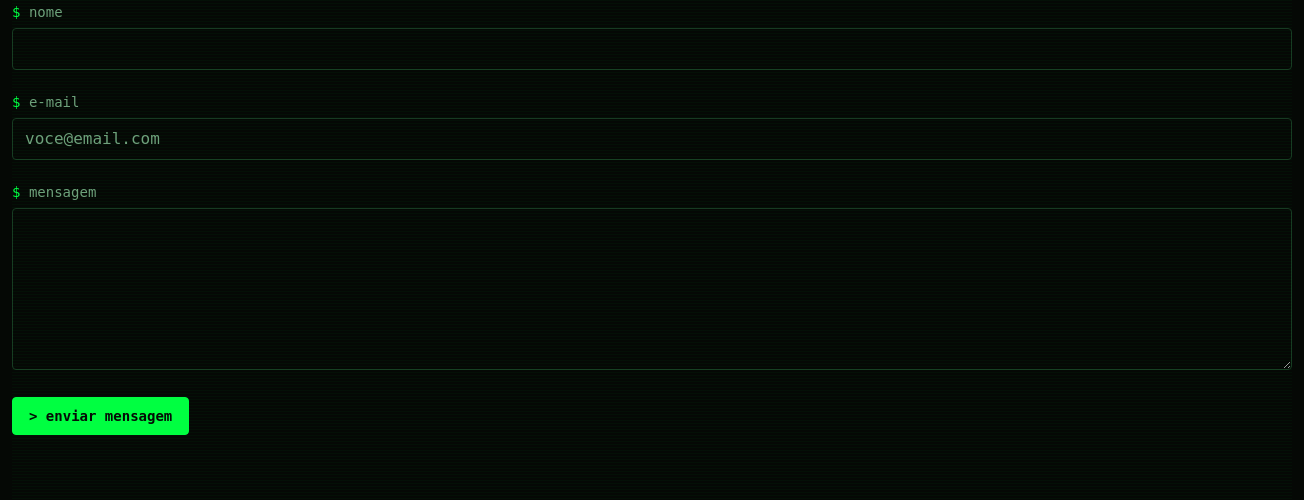
Test: ContactForm › recusa e-mail inválido e mensagem curta
Type "Ana" into the field labelled "$ nome" at (652,49), box top-left (12, 28), bottom-right (1292, 70)
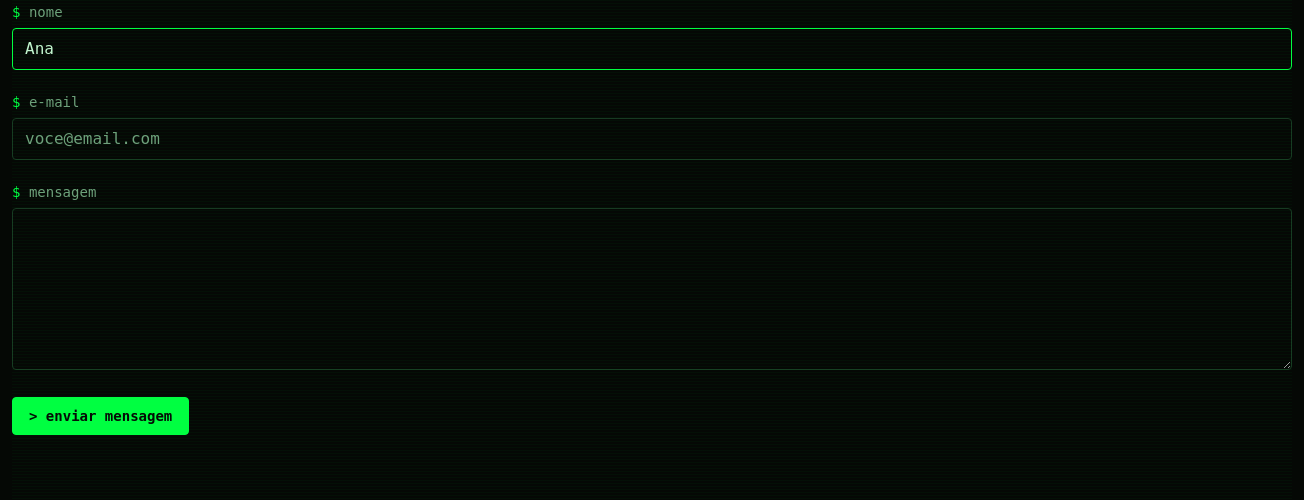
Type "ana@" into the field labelled "$ e-mail" at (652,139), box top-left (12, 118), bottom-right (1292, 160)
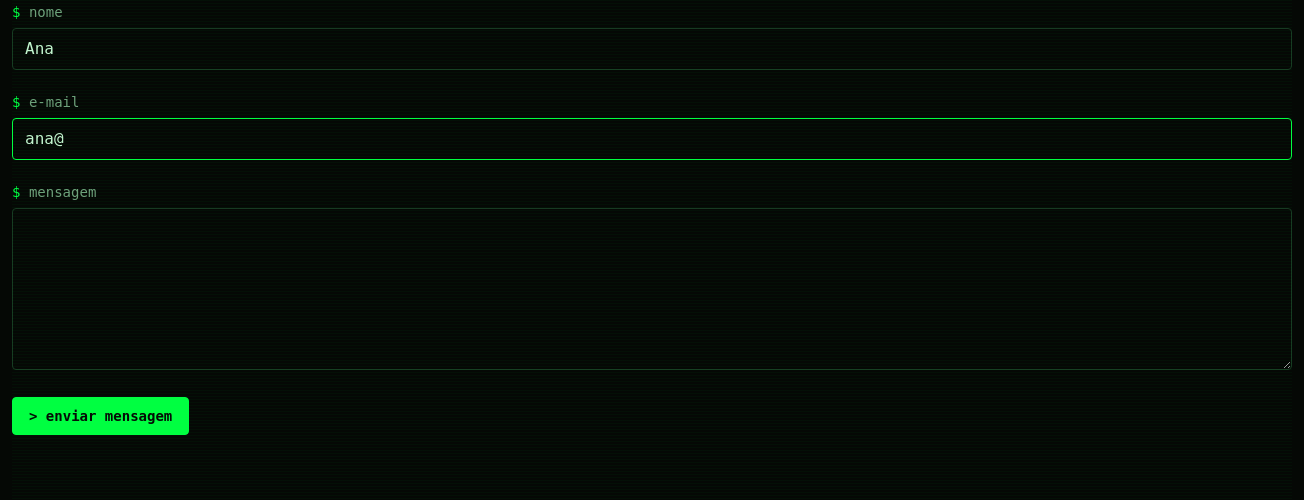
Type "curta" into the text box labelled "$ mensagem" at (652,289), box top-left (12, 208), bottom-right (1292, 370)
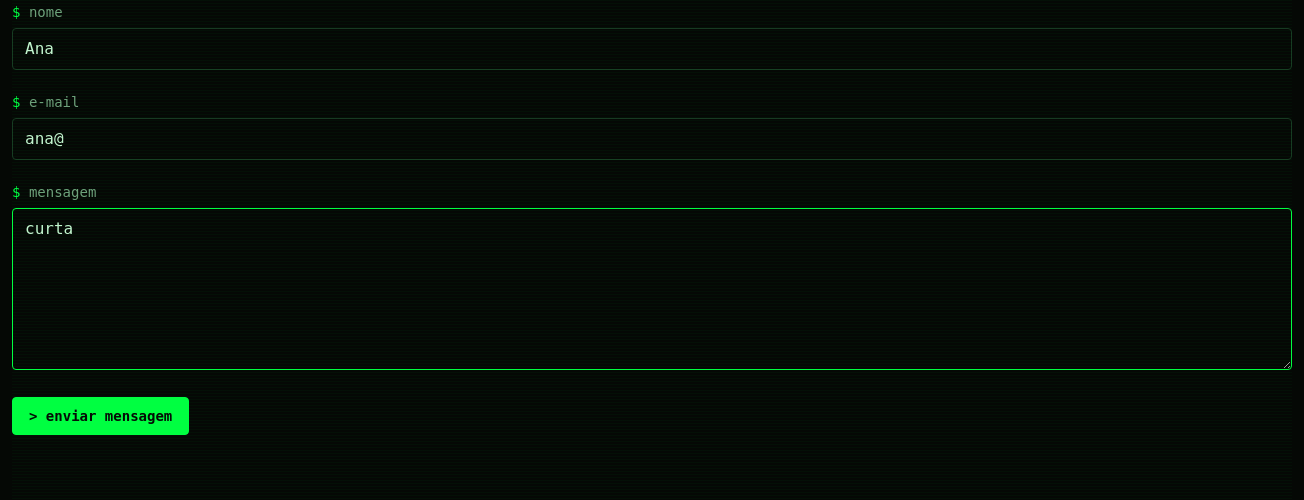
Click the button "> enviar mensagem" at (101,416), box top-left (12, 397), bottom-right (189, 435)
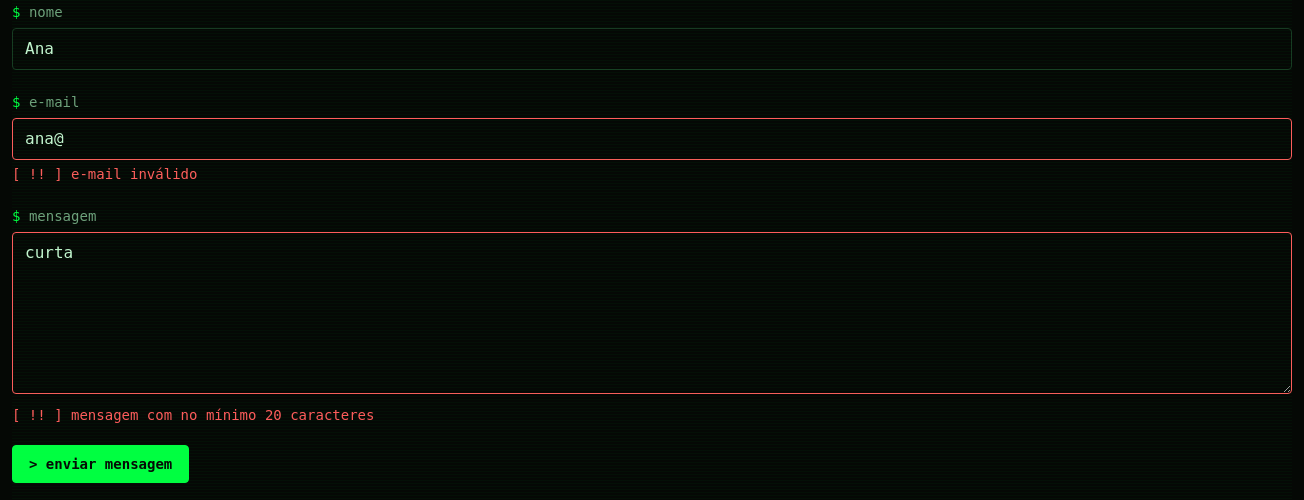
Expected: the text "[ !! ] e-mail inválido" is shown, top-left (12, 166), bottom-right (198, 182)
Expected: the text "[ !! ] mensagem com no mínimo 20 caracteres" is shown, top-left (12, 407), bottom-right (374, 423)
